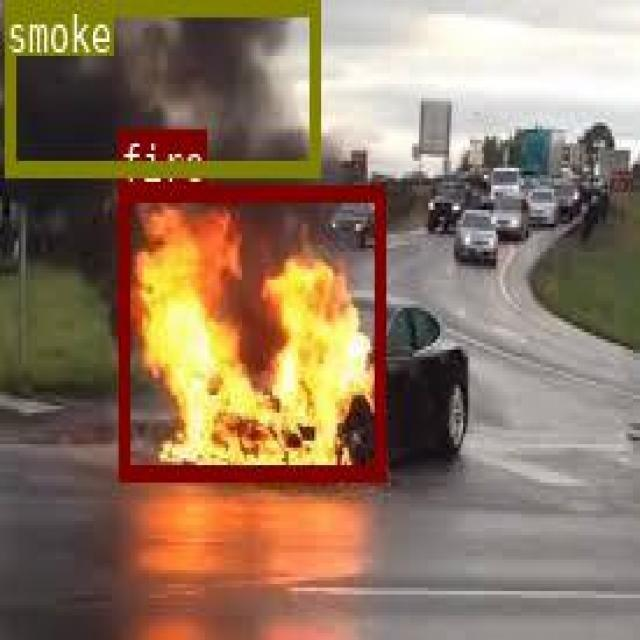fire: (119, 184, 384, 478)
smoke: (4, 0, 318, 175)
